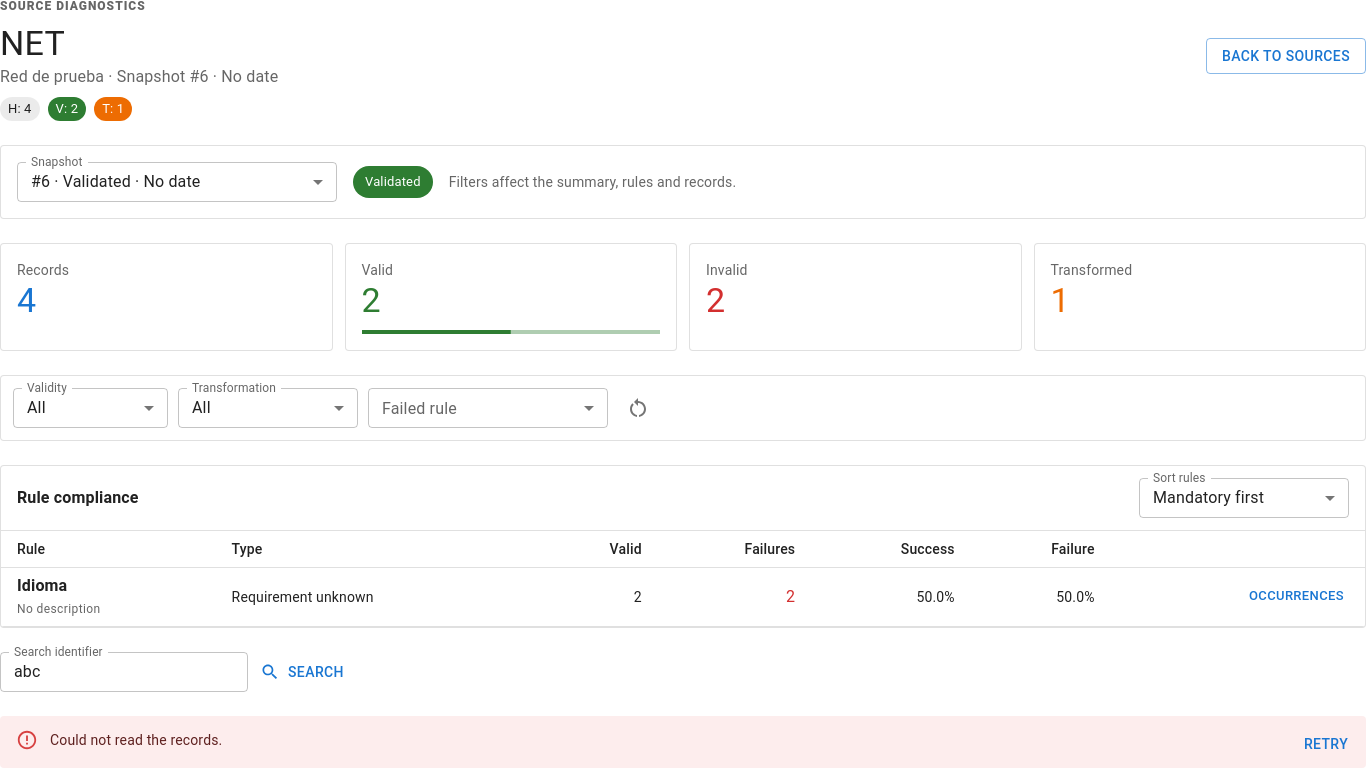
Test case: Historical diagnostics in Admin › distinguishes a failed page from a successful empty page and retries the same filters
(page scrolled)
Expected: the text "Could not read the records." is shown, [50,732,222,748]
Expected: the text "No records match these filters." is not shown
Click the button "Retry" at (1326,744), box [1294,726,1358,762]
(page scrolled)
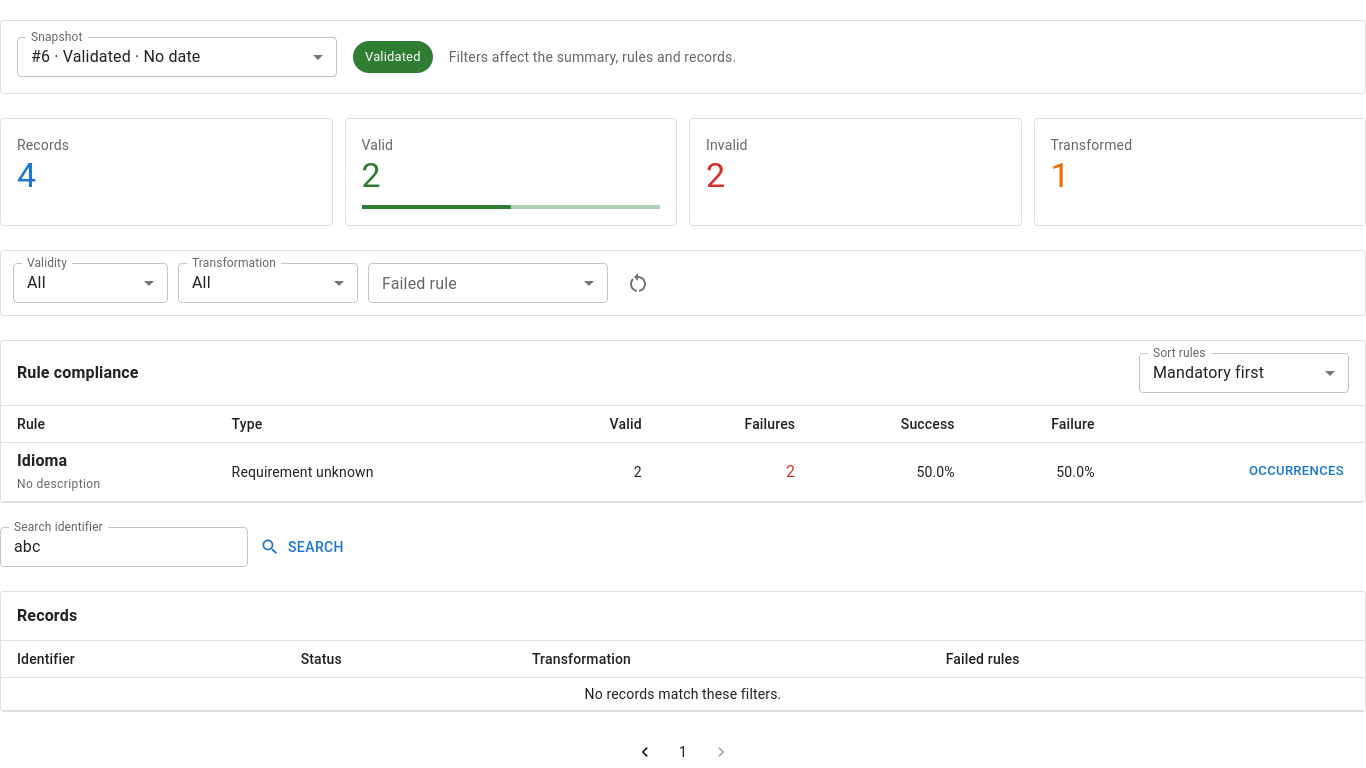
Result: the text "No records match these filters." is shown at [1,677,1365,710]
